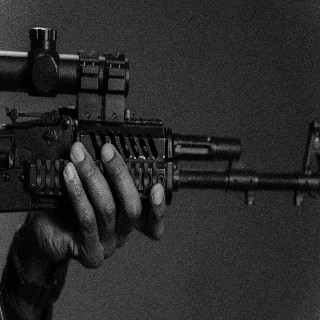rifle: (1, 26, 320, 214)
